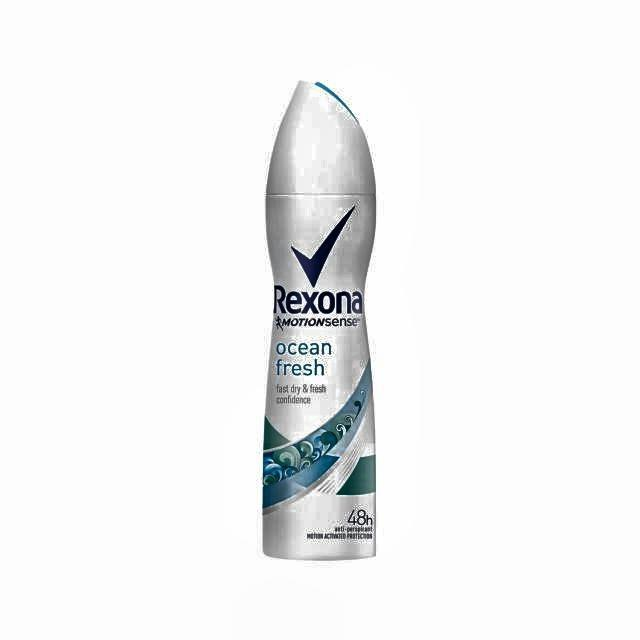metal: (261, 78, 379, 564)
